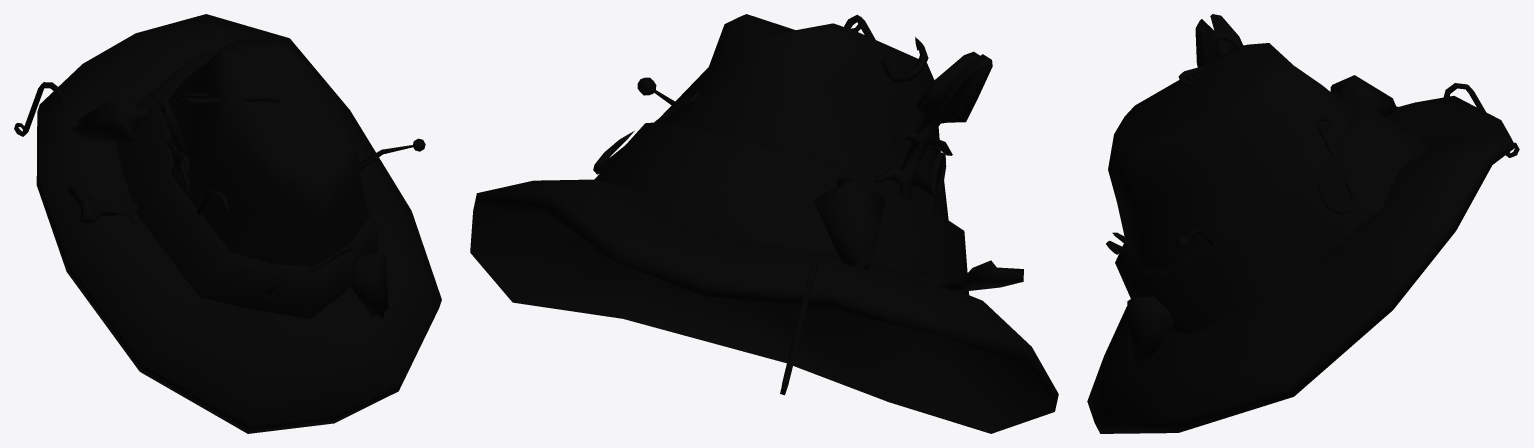
The model's file is HelmetFishingFixed.fbx.
3 views of the same model, side by side, from view 1: azimuth 30°, elevation 25°; view 2: azimuth 150°, elevation 25°; view 3: azimuth 270°, elevation 25° (orthographic). The views are drawn at different scales.
Visible parts, largest first — view 1: HelmetFishing; view 2: HelmetFishing; view 3: HelmetFishing.
Boxes of the visible parts, bbox=[...] form: HelmetFishing: bbox=[14, 14, 441, 433]; HelmetFishing: bbox=[470, 14, 1058, 433]; HelmetFishing: bbox=[1087, 14, 1519, 433].
Size of the model in its own units: 33.4 by 29.6 by 32.95.
Materials: 1 (1 with a texture image).
